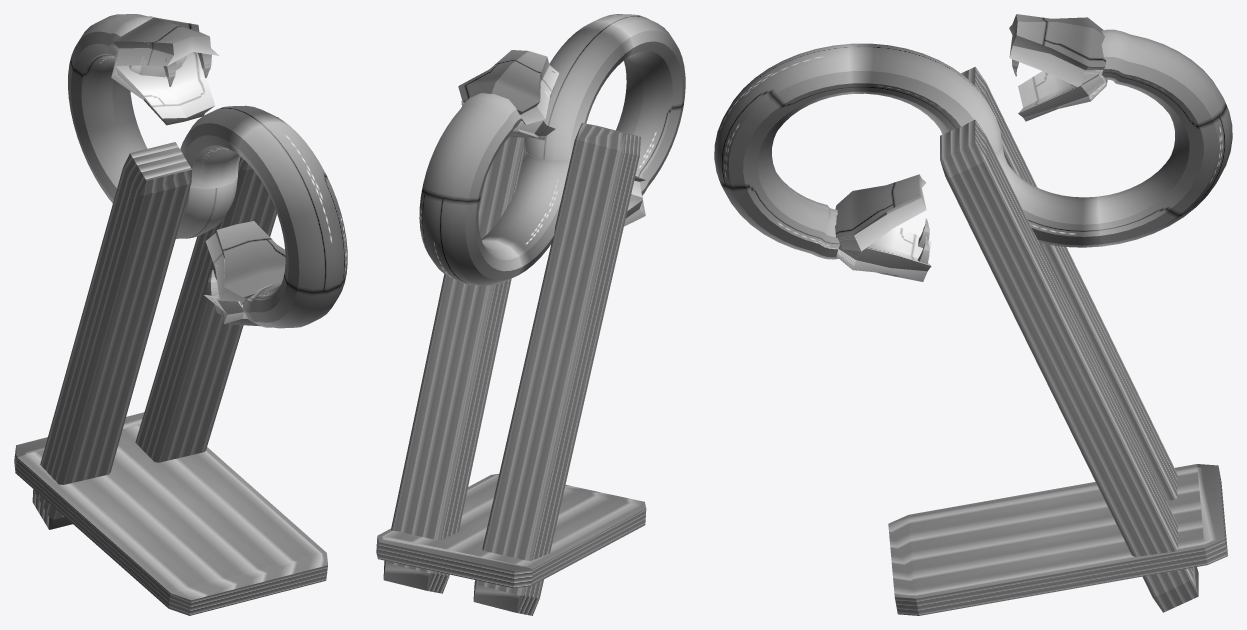
File: batch_CircleThing.fbx
3 renders of one model, left to right at view 1: azimuth 30°, elevation 25°; view 2: azimuth 150°, elevation 25°; view 3: azimuth 270°, elevation 25°, orthographic. The views are drawn at different scales.
Visible parts, largest first — view 1: Cube.008; view 2: Cube.008; view 3: Cube.008.
Boxes of the visible parts, x1=… form: Cube.008: x1=14, y1=14, x2=347, y2=615; Cube.008: x1=376, y1=14, x2=685, y2=615; Cube.008: x1=714, y1=14, x2=1232, y2=615.
Size of the model in its own units: 361 by 1025 by 866.
